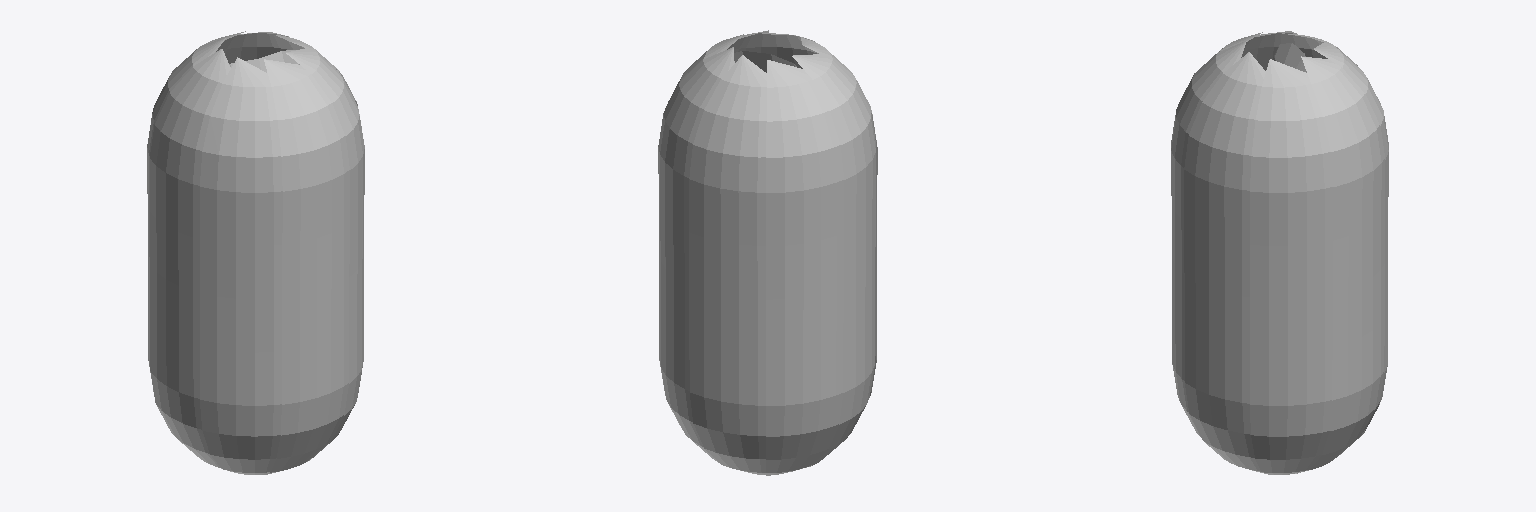
File: FlowerTopModel_03_seq_0011.obj
3 renders of one model, left to right at view 1: azimuth 30°, elevation 25°; view 2: azimuth 150°, elevation 25°; view 3: azimuth 270°, elevation 25°, orthographic.
Parts seen in each view (by area): view 1: FlowerTopModel_03; view 2: FlowerTopModel_03; view 3: FlowerTopModel_03.
Part boxes in pixels (x1,y1,x2,y2): FlowerTopModel_03: (147,31,364,474); FlowerTopModel_03: (658,30,877,475); FlowerTopModel_03: (1171,31,1388,474).
Size of the model in its own units: 162 by 346 by 162.